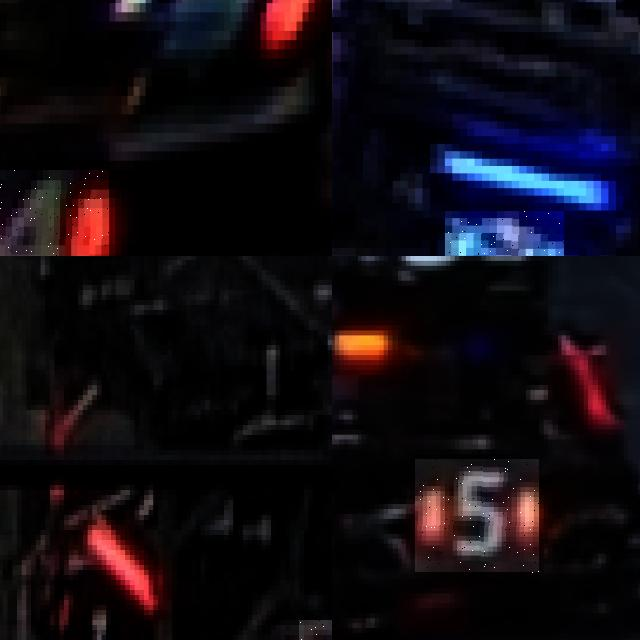B2: (445, 210, 564, 256)
R1: (45, 580, 139, 640)
R4: (0, 170, 109, 256)
R5: (415, 459, 539, 574)
